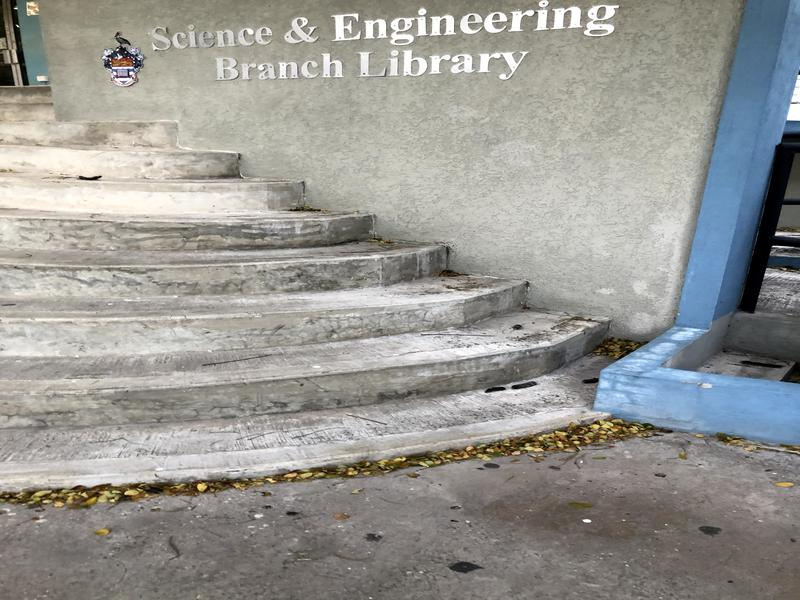18.0053644_-76.7493880_librarysign: (136, 6, 640, 103)
